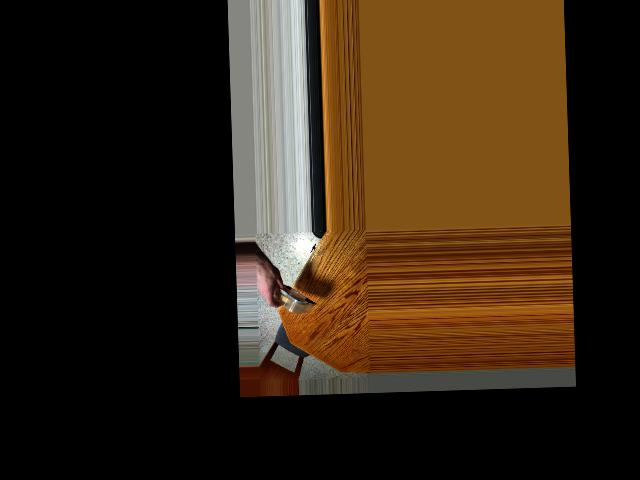cheese: (262, 267, 307, 326)
